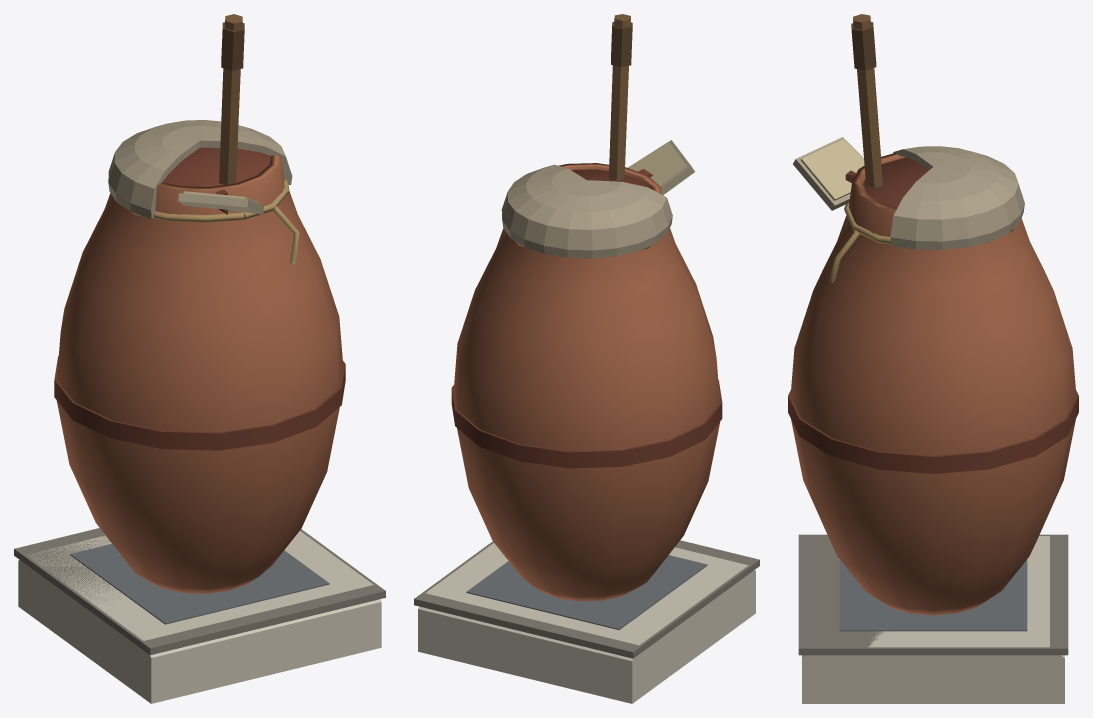
The model's file is SM_LPD_Prison_CellWaterCrock_01.fbx.
3 views of the same model, side by side, from view 1: azimuth 30°, elevation 25°; view 2: azimuth 150°, elevation 25°; view 3: azimuth 270°, elevation 25° (orthographic). The views are drawn at different scales.
Visible parts, largest first — view 1: SM_LPD_Prison_CellWaterCrock_01; view 2: SM_LPD_Prison_CellWaterCrock_01; view 3: SM_LPD_Prison_CellWaterCrock_01.
Boxes of the visible parts, <box> form: SM_LPD_Prison_CellWaterCrock_01: <box>14,14,385,703</box>; SM_LPD_Prison_CellWaterCrock_01: <box>414,14,759,703</box>; SM_LPD_Prison_CellWaterCrock_01: <box>788,14,1078,703</box>.
Size of the model in its own units: 0.464 by 1.11 by 0.464.
